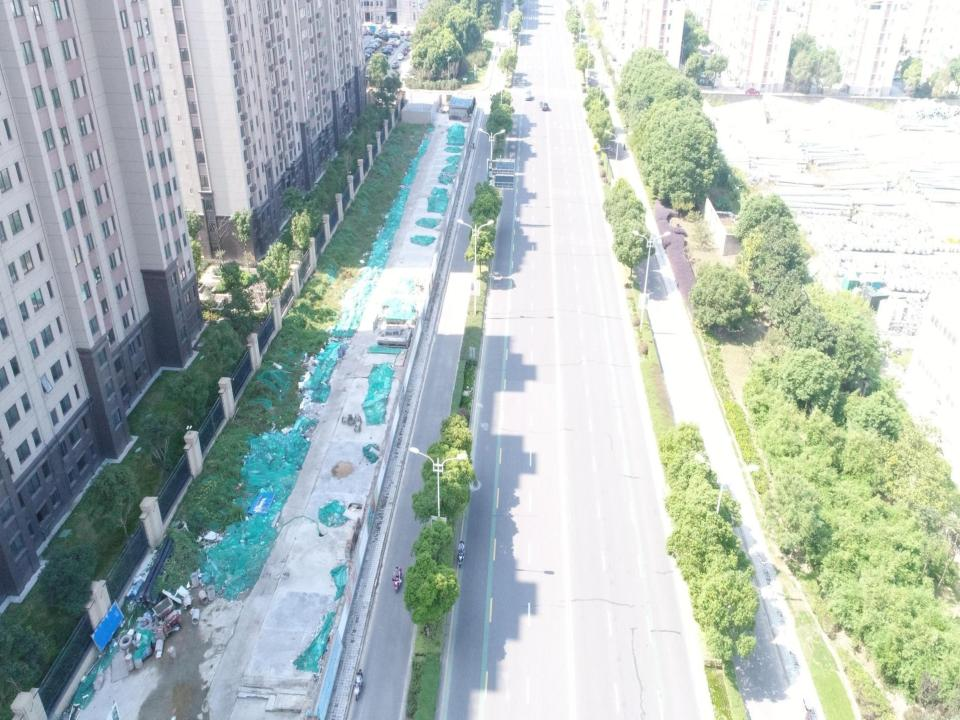car: (539, 101, 549, 113), (525, 89, 531, 101), (392, 61, 399, 69), (401, 22, 408, 30), (398, 53, 404, 61), (404, 36, 412, 42), (385, 21, 392, 27)
